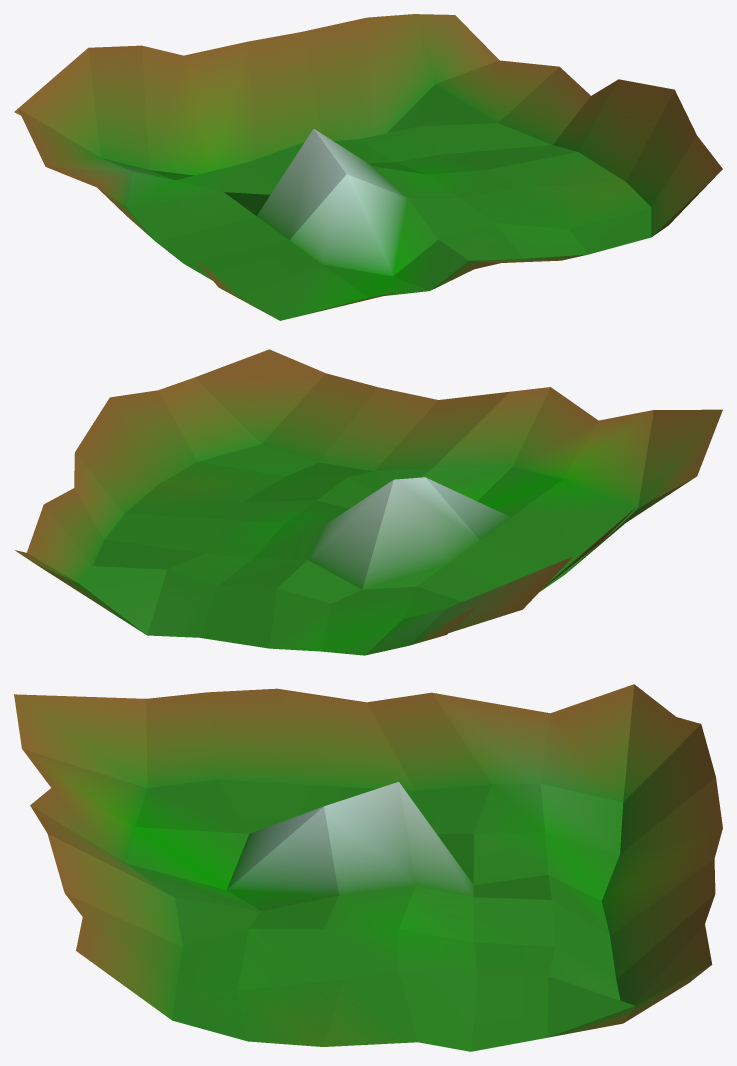
File: terrain.gltf
The picture shows the model from 3 angles, top to bottom: view 1: azimuth 30°, elevation 25°; view 2: azimuth 150°, elevation 25°; view 3: azimuth 270°, elevation 25°; orthographic projection. The views are drawn at different scales.
Visible parts, largest first — view 1: Plane; view 2: Plane; view 3: Plane.
Boxes of the visible parts, left/top/right/bottom form: Plane: left=14, top=14, right=722, bottom=320; Plane: left=14, top=349, right=722, bottom=655; Plane: left=14, top=684, right=722, bottom=1051.
Bounding box in the file's own units: 14.93 × 3.6 × 15.08.
